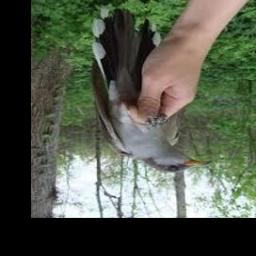Cuckoo: (91, 9, 211, 173)
